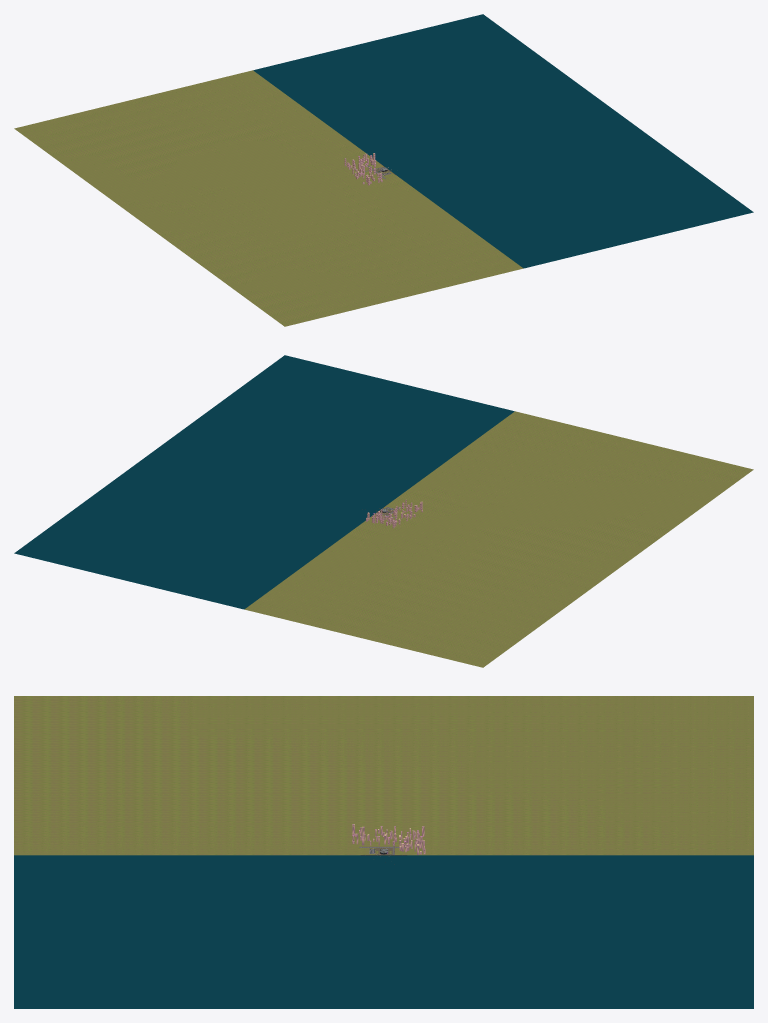
File: arena_venue.opt.glb
3 renders of one model, top to bottom at view 1: azimuth 30°, elevation 25°; view 2: azimuth 150°, elevation 25°; view 3: azimuth 270°, elevation 25°, orthographic. The views are drawn at different scales.
Visible parts, largest first — view 1: Ground_Far, Bay_Water, City_Towers; view 2: Ground_Far, Bay_Water, City_Towers; view 3: Ground_Far, Bay_Water, City_Towers.
Part boxes in pixels (x1,y1,x2,y2): Ground_Far: (14,70,523,326); Bay_Water: (253,14,753,268); City_Towers: (344,153,382,185); Ground_Far: (244,411,753,667); Bay_Water: (14,355,514,609); City_Towers: (366,499,422,528); Ground_Far: (14,696,753,855); Bay_Water: (14,855,753,1008); City_Towers: (352,824,425,854).
Bounding box in the file's own units: 12000 × 193 × 12000.
Materials: 93 (50 with a texture image).
